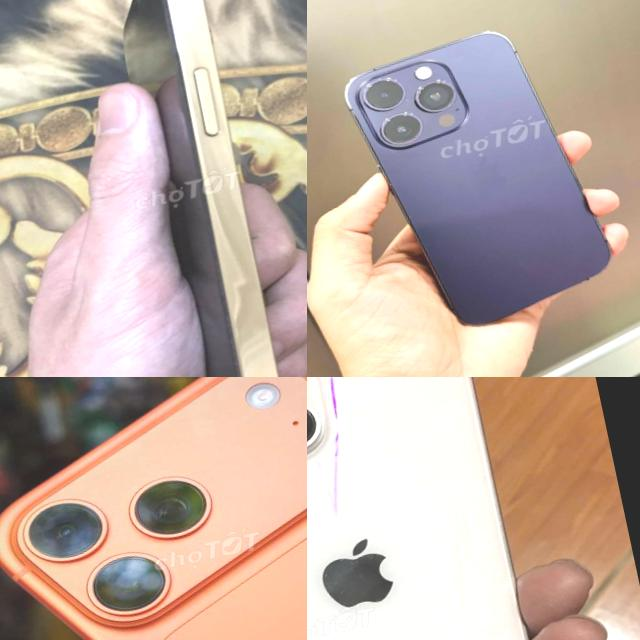gen_12_13: (65, 0, 307, 377), (307, 377, 604, 640)
gen_14: (329, 5, 634, 351)
gen_17: (0, 377, 307, 640)
